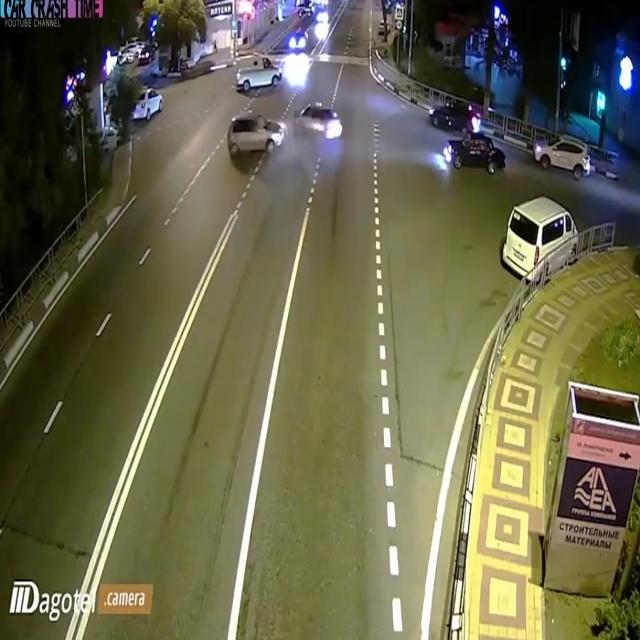accident: (222, 91, 346, 171)
non_accident: (426, 87, 512, 185)
